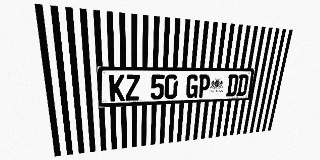0: (164, 75, 178, 99)
5: (151, 75, 165, 100)
D: (226, 75, 239, 97), (236, 75, 249, 96)
G: (185, 75, 199, 98)
K: (109, 75, 125, 102)
P: (197, 75, 211, 98)
Z: (125, 75, 140, 101)
